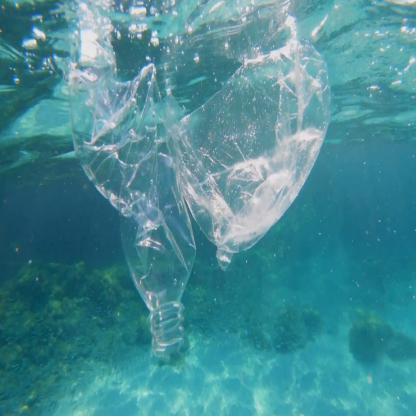Rác: (68, 45, 202, 377), (179, 19, 331, 273)
